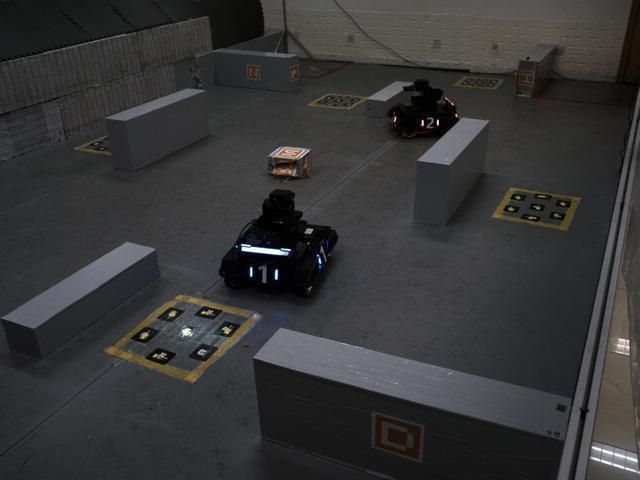armor: (244, 261, 284, 291), (314, 239, 332, 274), (416, 114, 441, 132)
